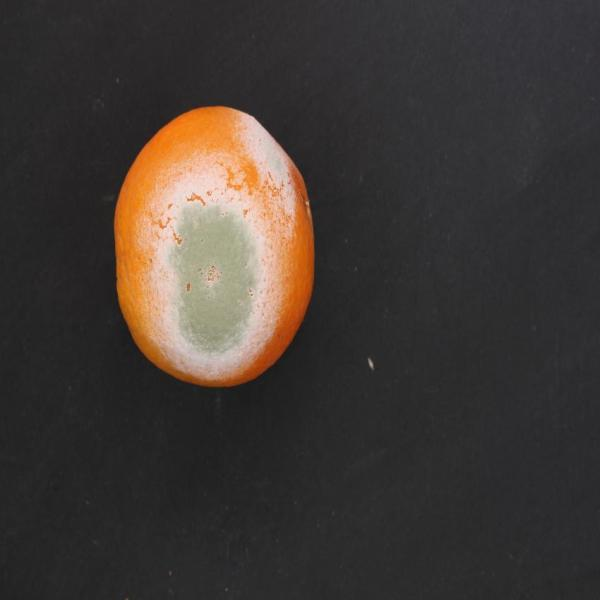Moho verde: (94, 96, 340, 401)
